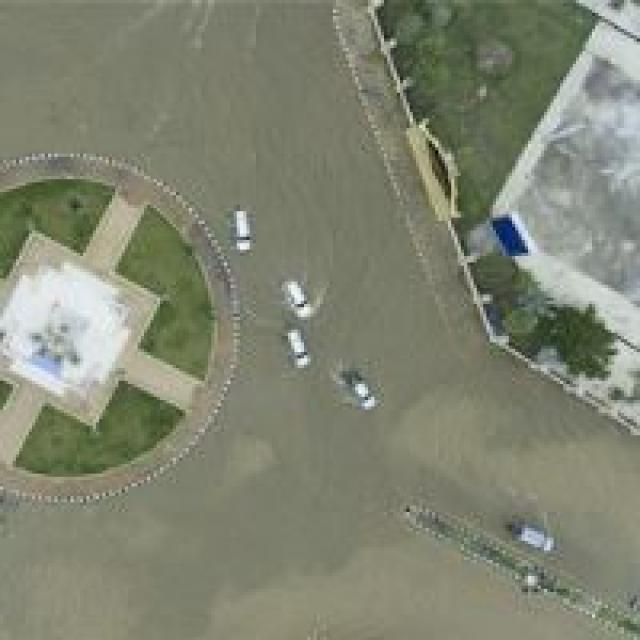flooded_areas: (0, 124, 634, 634)
